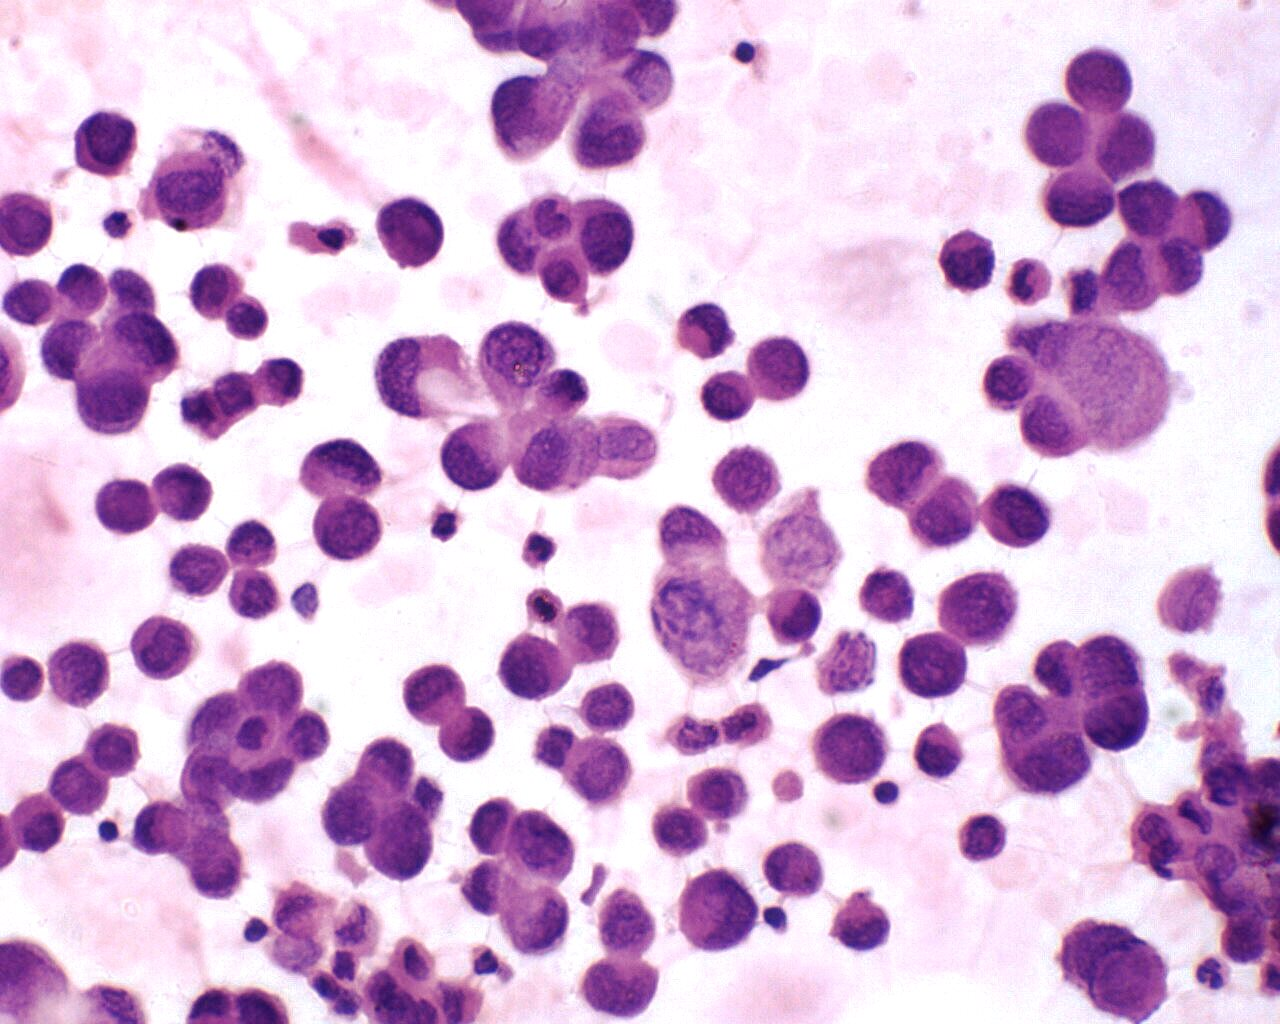ab: (678, 866, 763, 953), (357, 798, 437, 885), (474, 319, 553, 403), (503, 806, 580, 887), (72, 362, 153, 438), (906, 478, 985, 554), (566, 196, 637, 279), (373, 192, 448, 270), (813, 709, 887, 788), (1040, 156, 1119, 228), (980, 478, 1052, 554), (1020, 100, 1098, 170), (496, 630, 571, 703), (561, 734, 635, 807), (40, 636, 113, 708), (309, 494, 385, 564), (709, 445, 784, 515), (1081, 684, 1151, 758), (898, 629, 969, 700), (68, 108, 139, 177), (1064, 46, 1133, 117), (745, 333, 811, 405), (85, 714, 150, 785), (127, 613, 194, 682), (94, 472, 158, 539), (435, 705, 498, 770), (939, 227, 1000, 294), (160, 538, 225, 597), (575, 676, 641, 734)
lymph: (727, 36, 767, 66), (868, 777, 903, 812)
